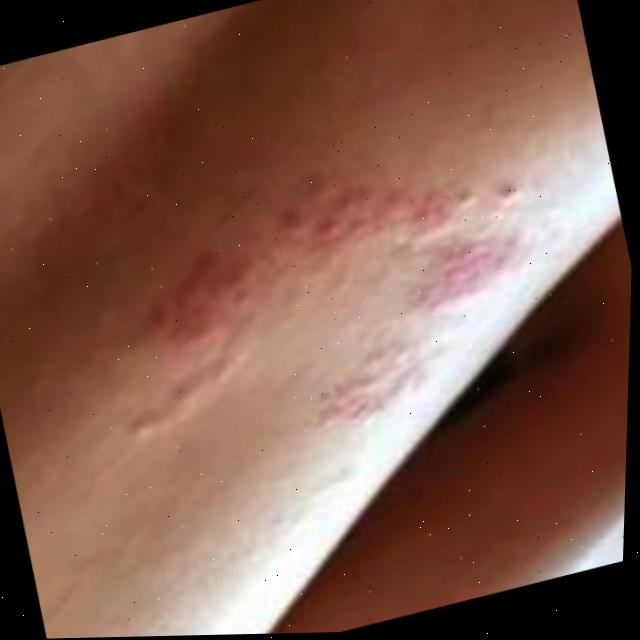Shingles: (114, 157, 558, 475)
